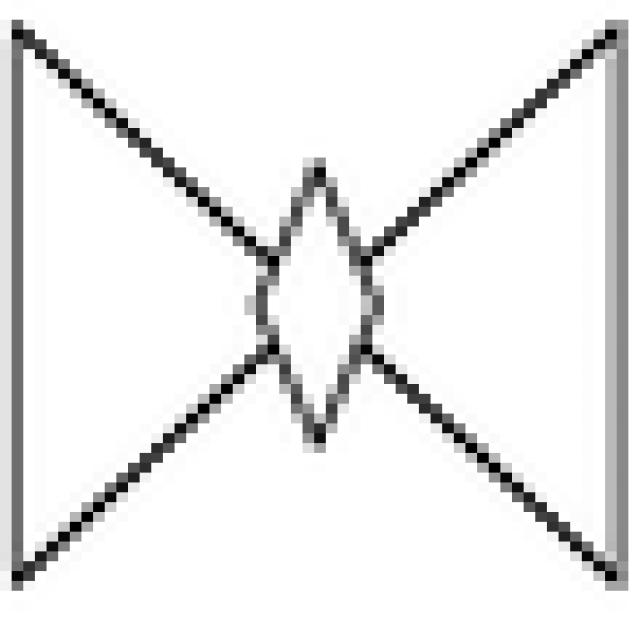Plug Valve: (15, 31, 628, 589)
